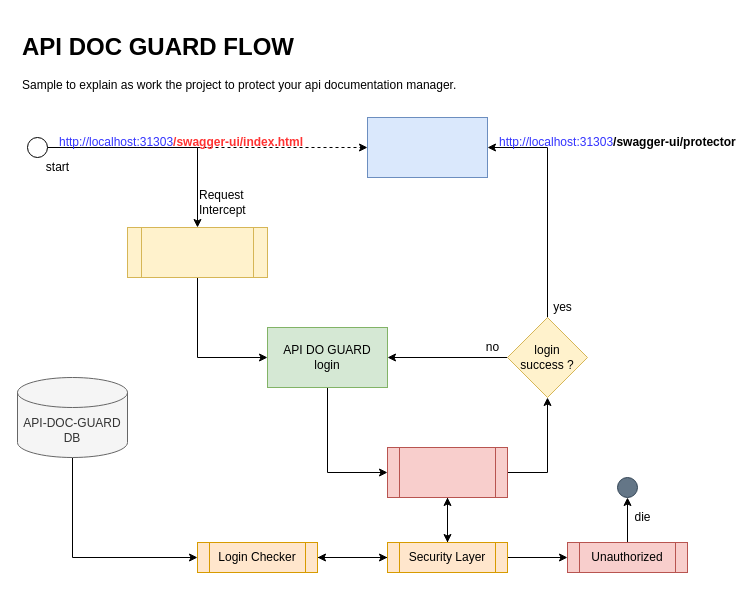
Some shapes in this 755 by 590 pixel diagram are drawn without their labels. Each missing label, with the centre of its shape:
"API DOC GUARD protector" goes at point (197, 252).
"Login Process" goes at point (447, 472).
"Swagger UI" goes at point (427, 147).
